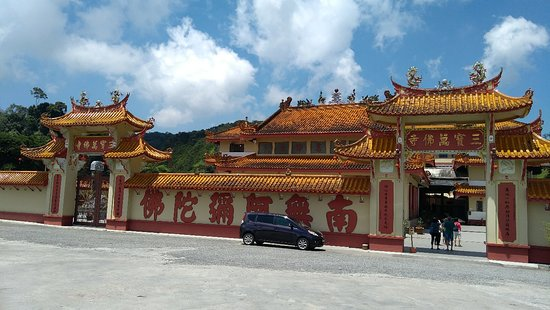Buddhist Temple: (12, 73, 508, 256)
